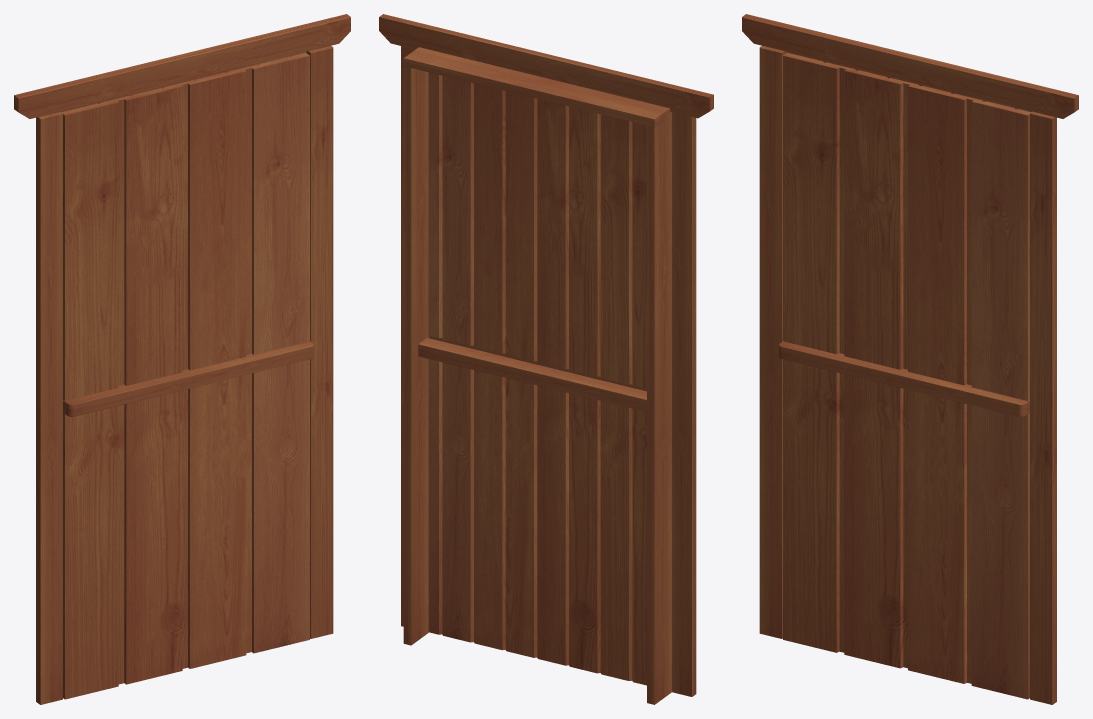
3 renders of one model, left to right at view 1: azimuth 30°, elevation 25°; view 2: azimuth 150°, elevation 25°; view 3: azimuth 330°, elevation 25°, orthographic.
Parts seen in each view (by area): view 1: plank003, plank002, plank001, plank004, trim_left, trim_right, trim_top, door_stop; view 2: plank003, plank002, plank001, plank004, box_right, trim_left, box_left, trim_top, box_top, door_stop, trim_right; view 3: plank002, plank003, plank001, plank004, trim_right, trim_left, trim_top, door_stop.
Boxes of the visible parts, x1,y1,x2,y2 form: plank003: (188,64,259,668); plank002: (124,80,196,684); plank001: (62,96,132,699); plank004: (252,52,309,653); trim_left: (36,111,62,704); trim_right: (306,45,333,638); trim_top: (14,14,350,118); door_stop: (63,341,313,416); plank003: (474,83,537,657); plank002: (537,99,600,673); plank001: (600,114,646,685); plank004: (428,72,473,642); box_right: (403,66,428,645); trim_left: (672,112,696,696); box_left: (647,115,671,704); trim_top: (379,14,713,118); box_top: (403,47,671,127); door_stop: (418,336,646,411); trim_right: (401,46,415,626); plank002: (844,69,919,668); plank003: (908,85,983,683); plank001: (783,52,855,652); plank004: (971,100,1030,699); trim_right: (1030,111,1056,704); trim_left: (759,45,786,638); trim_top: (742,14,1078,118); door_stop: (779,341,1029,416).
Bounding box in the file's own units: 32.94 × 57.69 × 4.78.
Materials: 7 (7 with a texture image).
